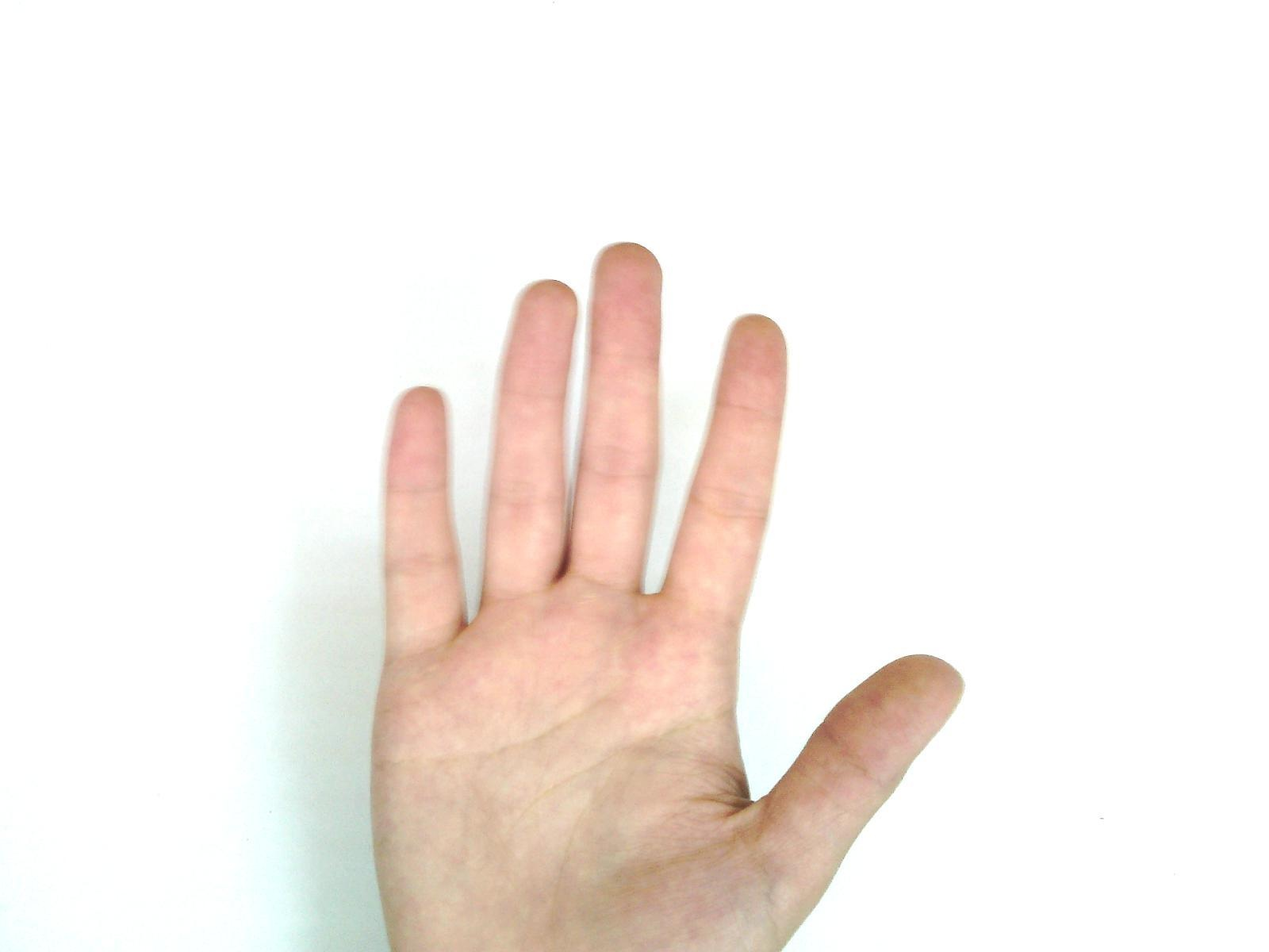open_palm: (365, 240, 967, 951)
